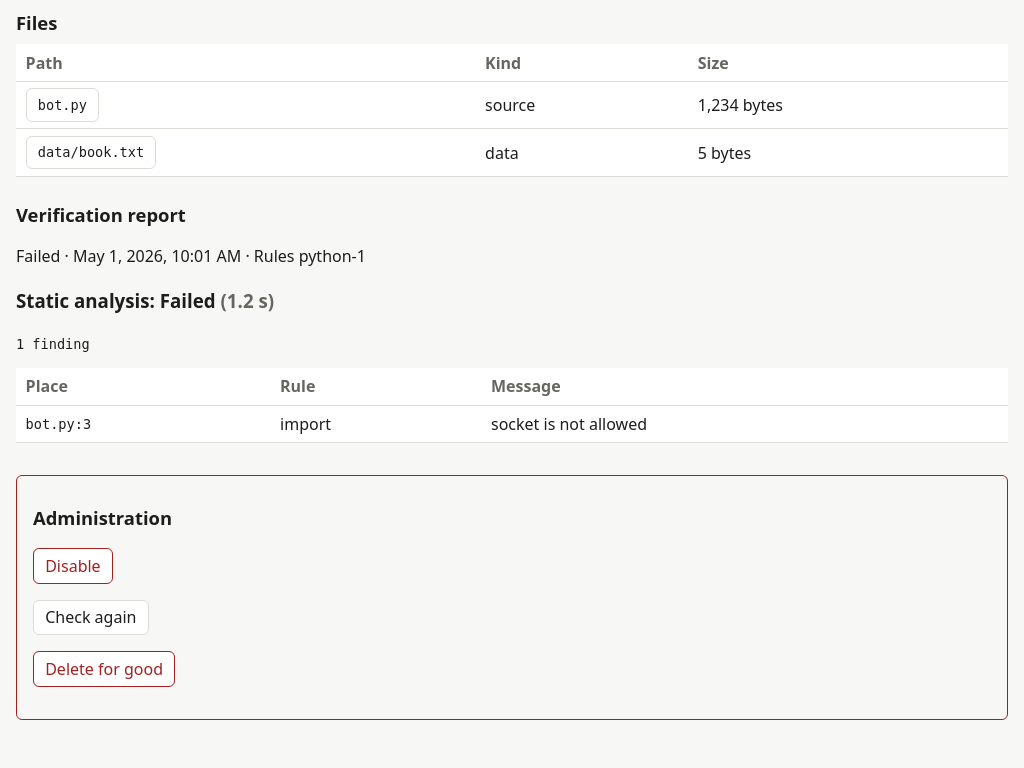
Test case: bot page › lets admins delete the last version for good after asking
Later steps or results of the test are not shown.
(page scrolled)
Click the button "Delete for good" at (104, 669), box [33,651,175,687]
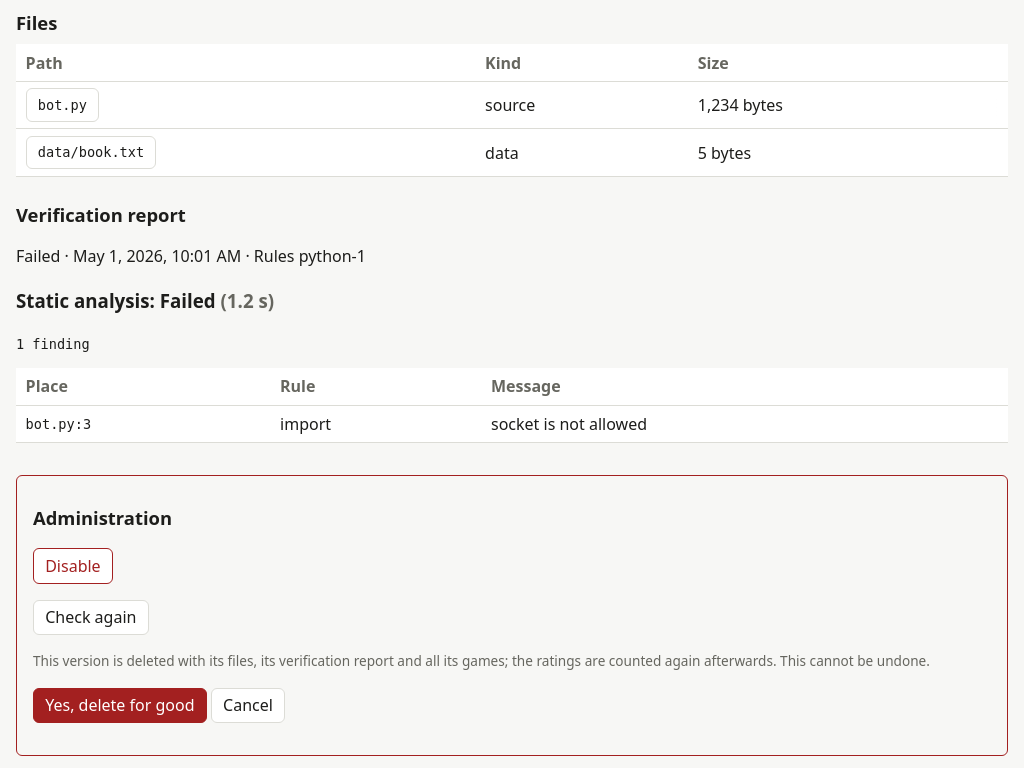
Now the text "This cannot be undone" is shown, box [33,651,930,670]
